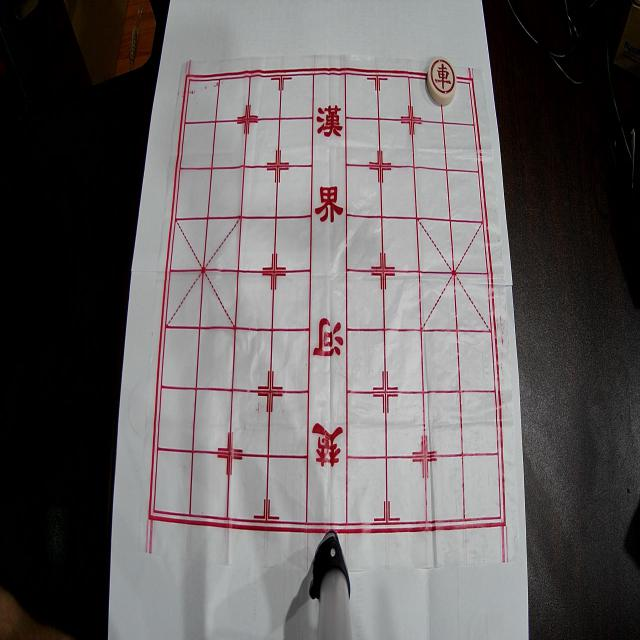red-chariot: (428, 57, 457, 105)
